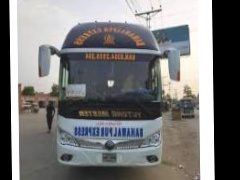bus: (51, 19, 165, 169)
